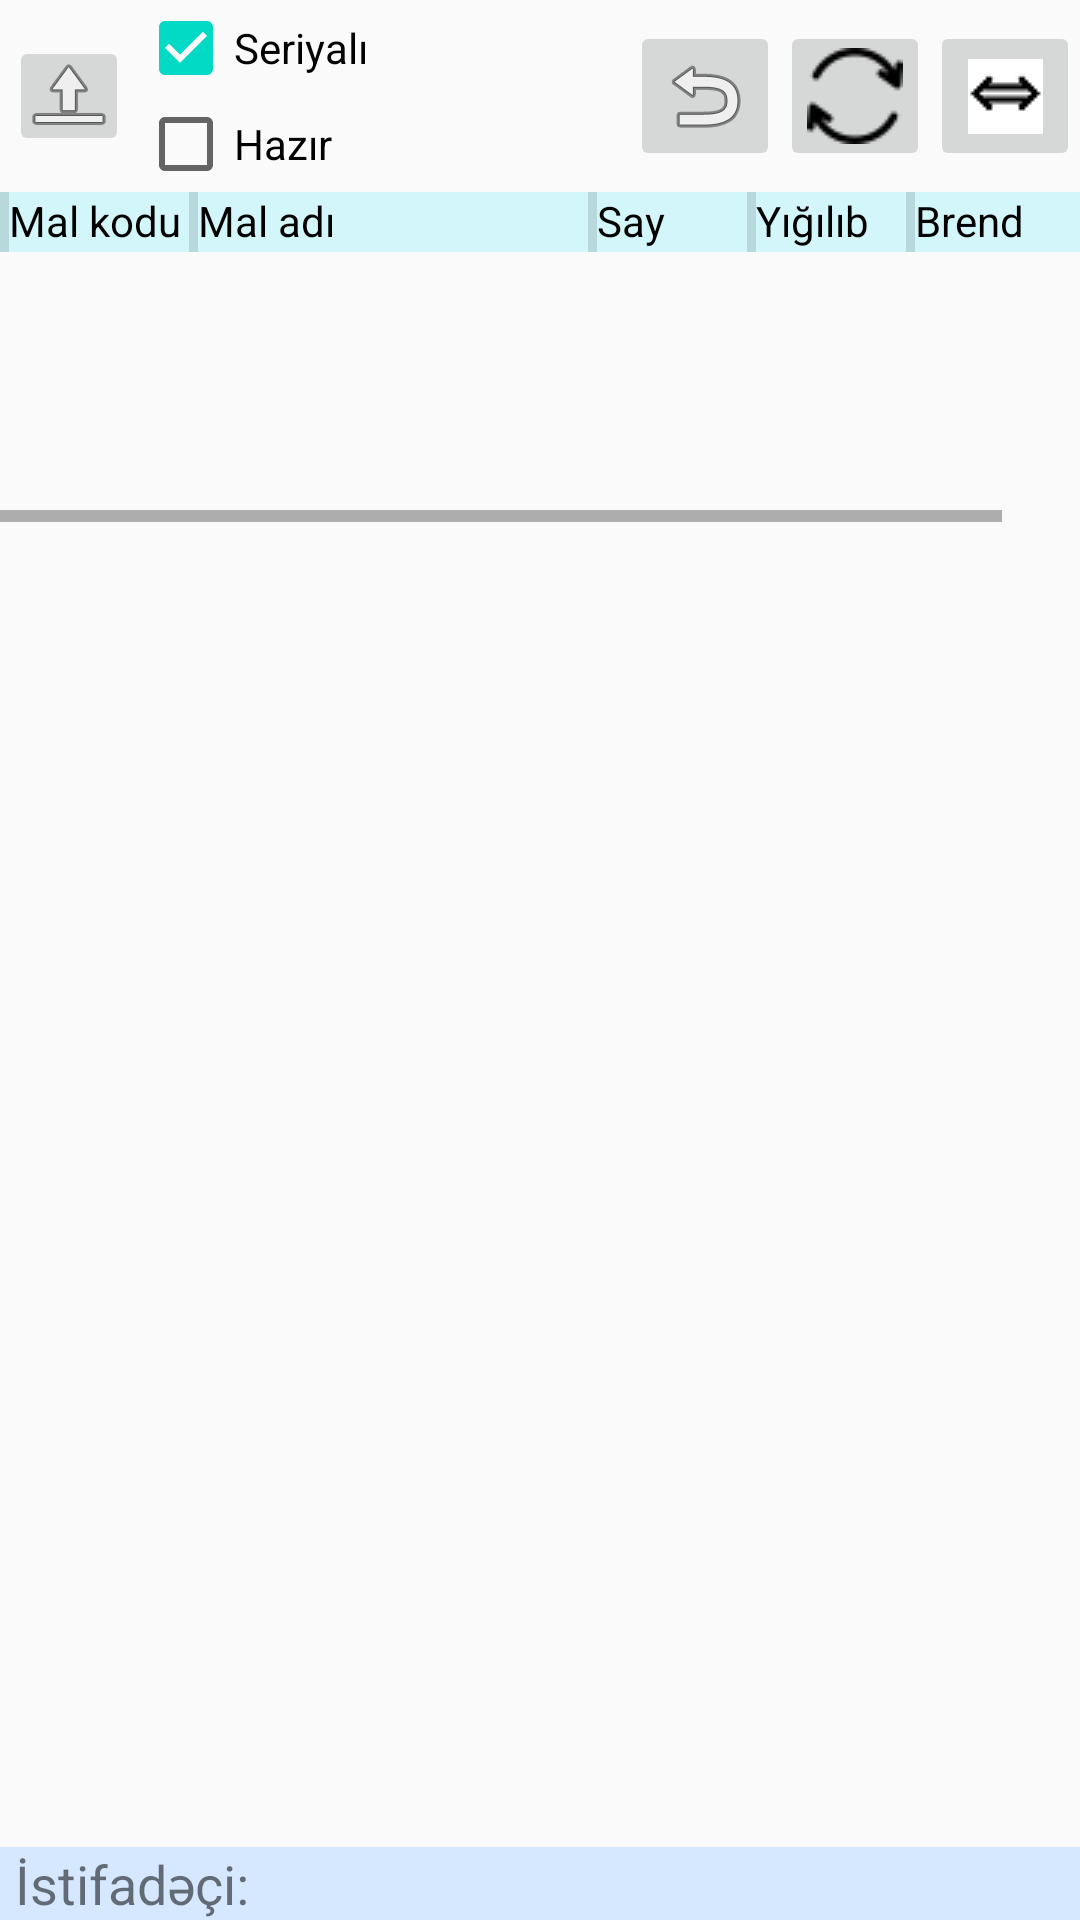

Icons on this 1080px x 1920px Android screen, each with its box as (x1, y1, x2, y2):
Geri göndər: (642, 39, 768, 153)
Göndər: (21, 54, 117, 138)
Hamısını eyniləşdir: (942, 39, 1068, 153)
Hamısını sıfırla: (792, 39, 918, 153)
